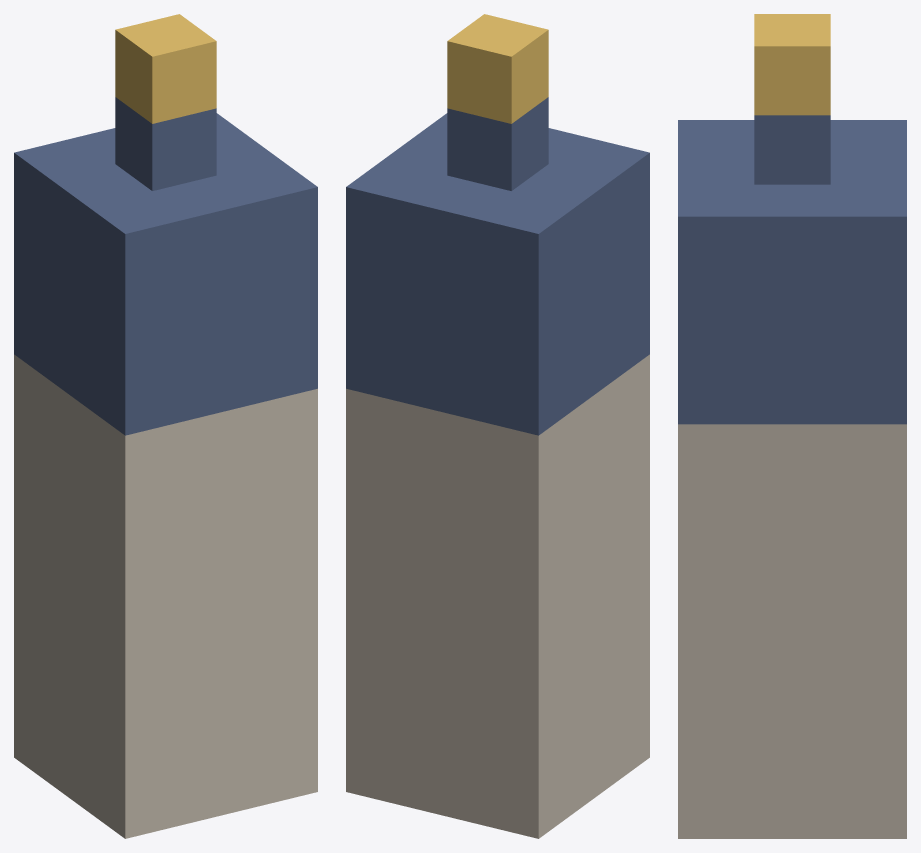
Rendered from spire.glb.
3 renders of one model, left to right at view 1: azimuth 30°, elevation 25°; view 2: azimuth 150°, elevation 25°; view 3: azimuth 270°, elevation 25°, orthographic. The views are drawn at different scales.
Parts seen in each view (by area): view 1: spire_stone, spire_roof_slate, spire_gold; view 2: spire_stone, spire_roof_slate, spire_gold; view 3: spire_stone, spire_roof_slate, spire_gold.
Part boxes in pixels (x1,y1,x2,y2): spire_stone: (14,354,317,838); spire_roof_slate: (14,97,317,435); spire_gold: (115,14,216,123); spire_stone: (346,354,649,838); spire_roof_slate: (346,97,649,435); spire_gold: (447,14,548,123); spire_stone: (678,424,906,838); spire_roof_slate: (678,115,906,424); spire_gold: (754,14,830,115).
Size of the model in its own units: 7.55 by 27.68 by 7.55.
